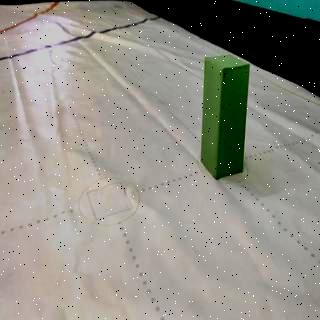greenbox: (200, 54, 252, 180)
